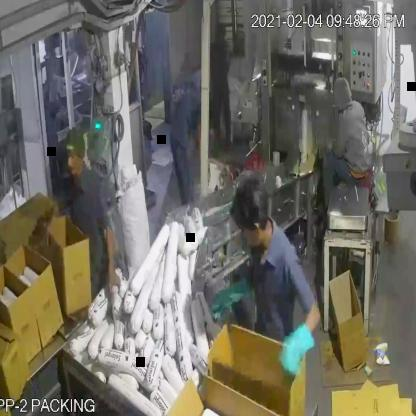glove: (204, 270, 254, 324), (275, 321, 320, 381)
no_glove: (100, 216, 122, 304)
